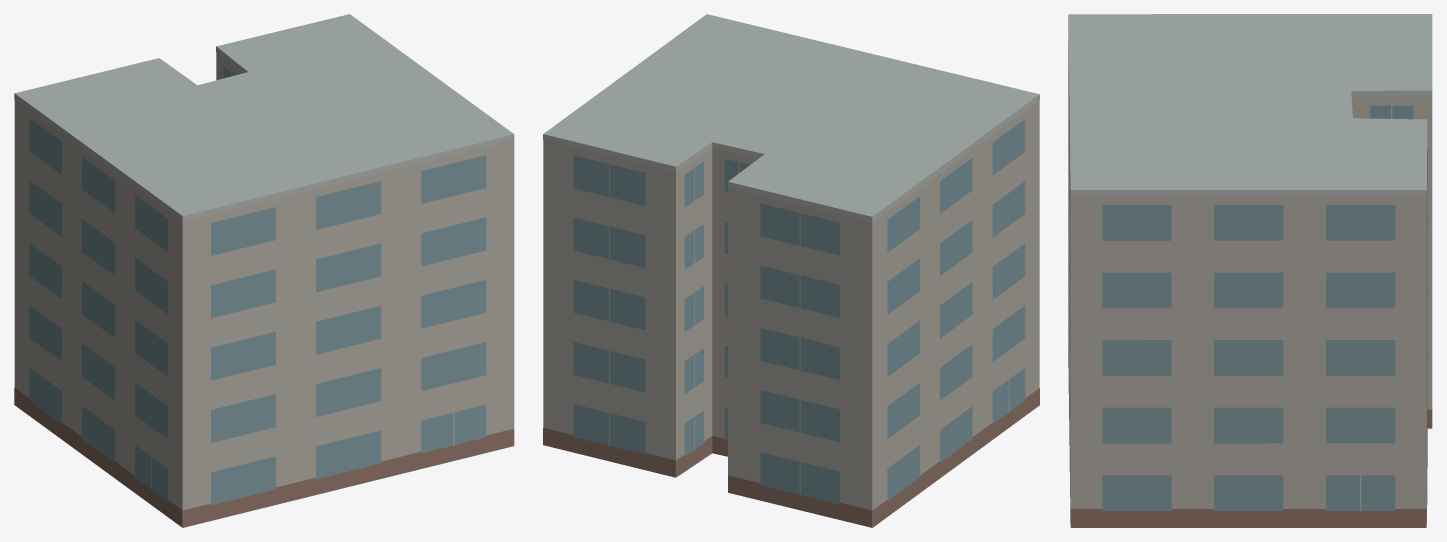
The model's file is survey-upis-32815138.glb.
The picture shows the model from 3 angles, left to right: view 1: azimuth 30°, elevation 25°; view 2: azimuth 150°, elevation 25°; view 3: azimuth 270°, elevation 25°; orthographic projection. The views are drawn at different scales.
Visible parts, largest first — view 1: survey-upis-32815138.tmp; view 2: survey-upis-32815138.tmp; view 3: survey-upis-32815138.tmp.
Boxes of the visible parts, left/top/right/bottom form: survey-upis-32815138.tmp: left=14, top=14, right=514, bottom=527; survey-upis-32815138.tmp: left=543, top=14, right=1039, bottom=527; survey-upis-32815138.tmp: left=1068, top=14, right=1432, bottom=527.
Bounding box in the file's own units: 14.32 × 12.8 × 12.51.
